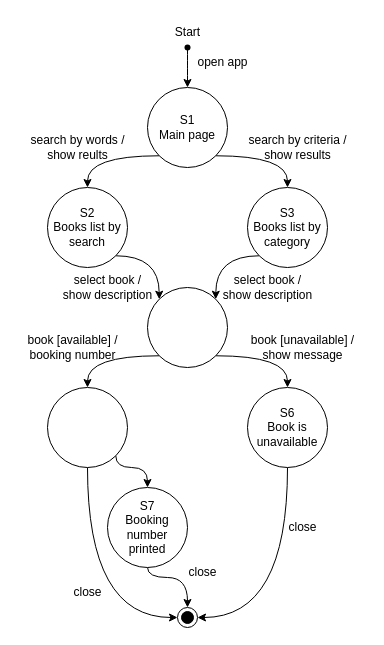
Some shapes in this 384 by 645 pixel diagram are drawn without their labels. The centre of each missing label's shape, as x and y in pixels:
S4 Book page: the point at 187,327
S5 Booking successed: the point at 87,427
